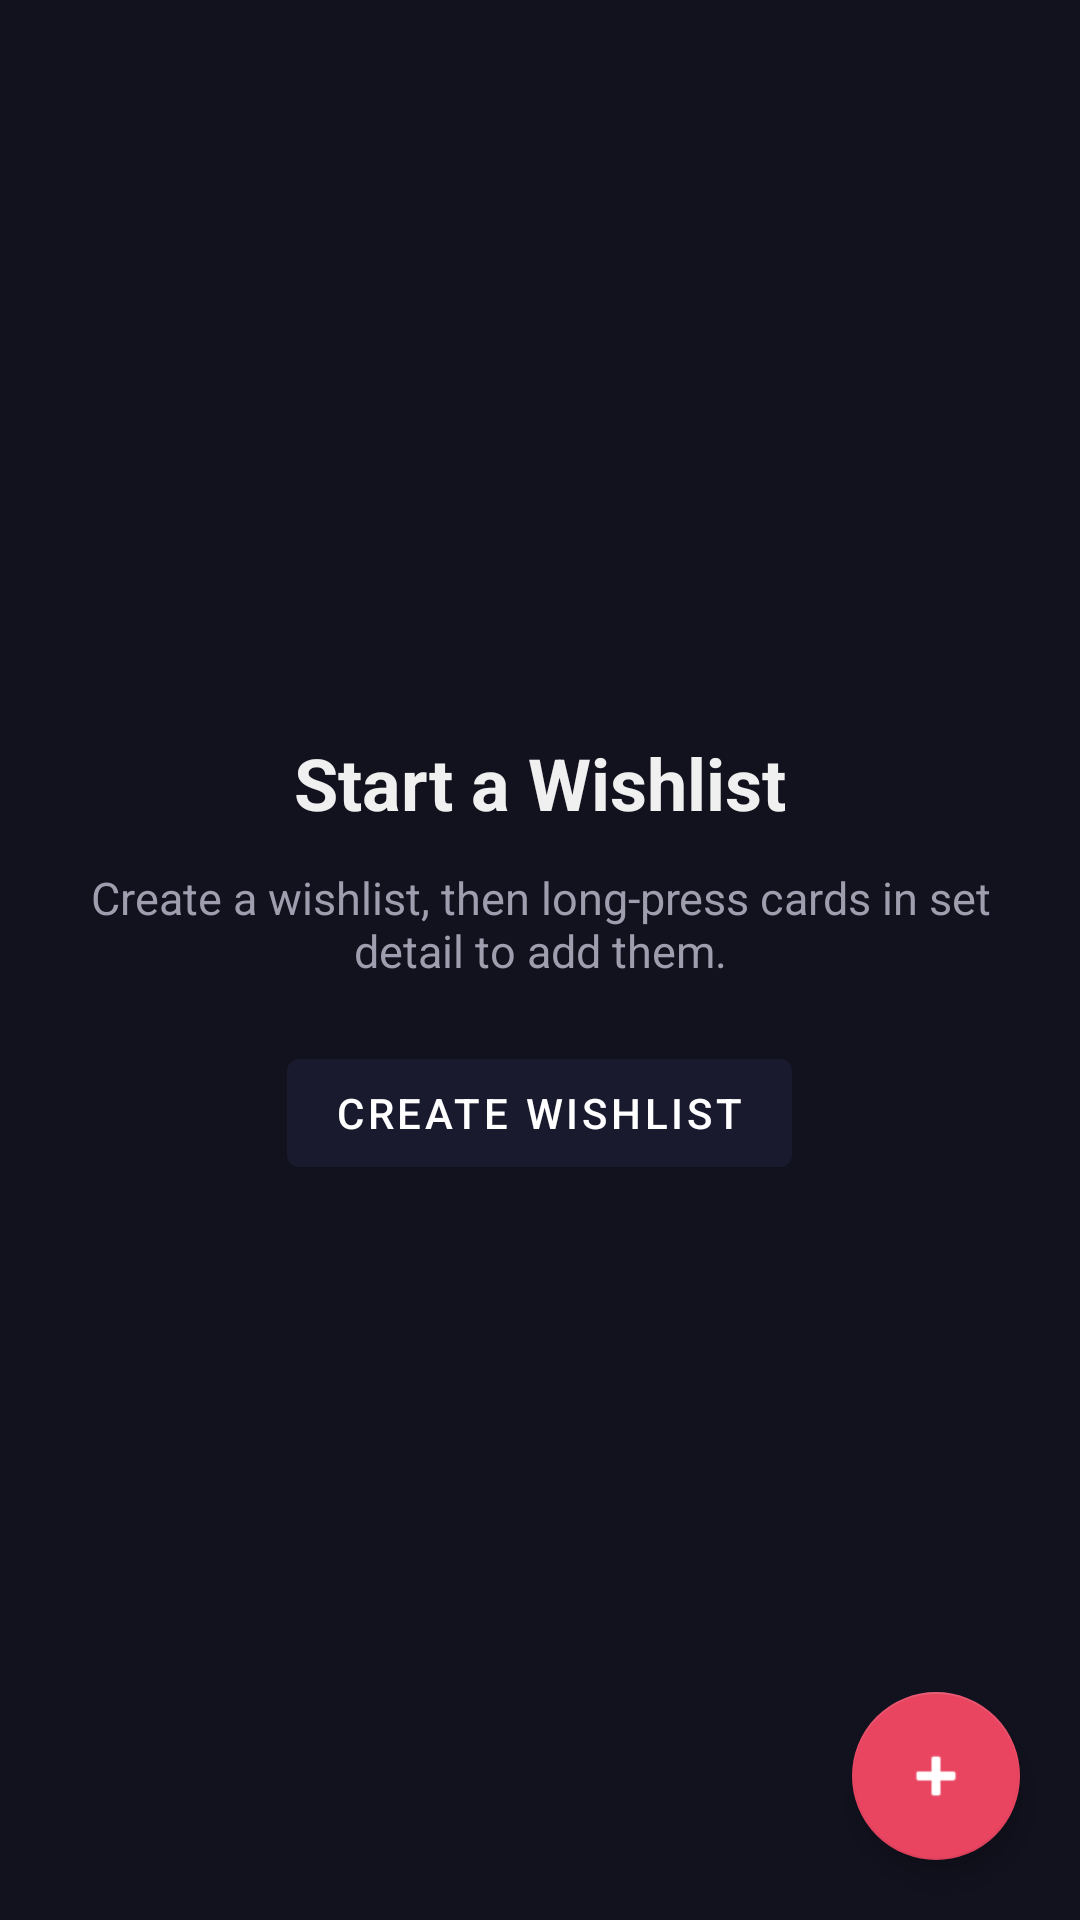

Where icons sit on this 1080px x 1920px app screen, as (x1, y1, x2, y2):
Create Wishlist: (852, 1692, 1020, 1860)
